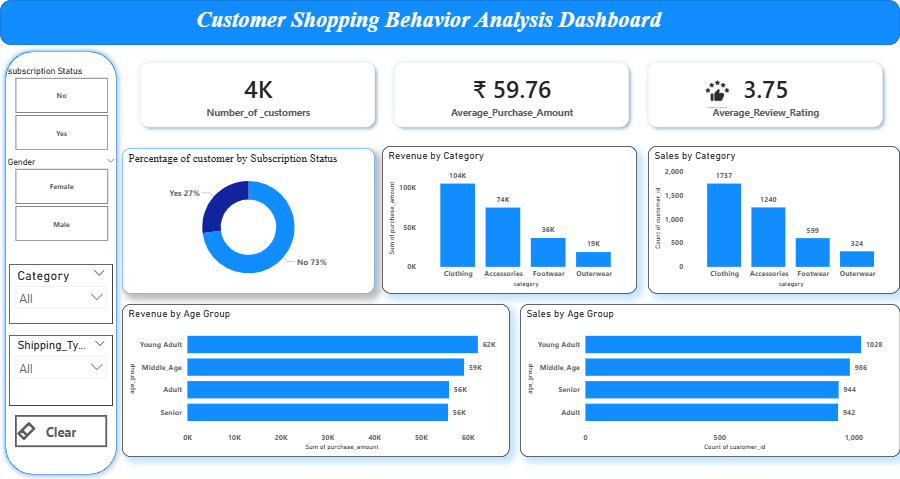

What the dashboard file says about the page in this screenshot:
{"tool":"powerbi","page":{"name":"Page 1","canvas":[1500,800],"ordinal":0},"visuals":[{"type":"cardVisual","fields":{"Data":["customer_shopping customer.Number_of _customers","customer_shopping customer.Average_Purchase_Amount","customer_shopping customer.Average_Review_Ratingg"]},"box":[204.4,75.6,1295.6,166.7],"z":0},{"type":"shape","box":[0,0,1500,75],"z":1000},{"type":"textbox","box":[306.7,6.7,815,70],"z":2000},{"type":"donutChart","title":"Percentage of customer by Subscription Status","fields":{"Category":["customer_shopping customer.subscription_status"],"Y":["CountNonNull(customer_shopping customer.customer_id)"]},"box":[203.6,246.4,421.4,242.9],"z":3000},{"type":"clusteredColumnChart","title":"Revenue by Category","fields":{"Y":["Sum(customer_shopping customer.purchase_amount)"],"Category":["customer_shopping customer.category"]},"box":[637.5,242.9,425,246.4],"z":4000},{"type":"clusteredColumnChart","title":"Sales by Category","fields":{"Category":["customer_shopping customer.category"],"Y":["CountNonNull(customer_shopping customer.customer_id)"]},"box":[1080.4,242.9,419.6,246.4],"z":5000},{"type":"shape","box":[0,76.8,203.6,723.2],"z":6000},{"type":"slicer","fields":{"Values":["customer_shopping customer.subscription_status"]},"box":[0,105.4,203.6,151.8],"z":7000},{"type":"slicer","fields":{"Values":["customer_shopping customer.gender"]},"box":[0,257.1,203.6,151.8],"z":8000},{"type":"slicer","fields":{"Values":["customer_shopping customer.category"]},"box":[14.3,439.3,173.2,100],"z":9000},{"type":"slicer","fields":{"Values":["customer_shopping customer.shipping_type"]},"box":[14.3,558.9,173.2,117.9],"z":10000},{"type":"actionButton","box":[25,691.1,153.6,53.6],"z":11000},{"type":"clusteredBarChart","title":"Revenue by Age Group","fields":{"Y":["Sum(customer_shopping customer.purchase_amount)"],"Category":["customer_shopping customer.age_group"]},"box":[203.6,507.1,646.4,255.4],"z":12000},{"type":"clusteredBarChart","title":"Sales by Age Group","fields":{"Y":["CountNonNull(customer_shopping customer.customer_id)"],"Category":["customer_shopping customer.age_group"]},"box":[866.1,507.1,633.9,255.4],"z":13000},{"type":"image","box":[1156.9,123.1,78.5,58.5],"z":14000}]}

Visuals, with their boxes in screenshot pixels (x1, y1, x2, y2), scaled from the page's 1500x800 canvas onto the 900x479 screenshot:
cardVisual - customer_shopping customer.Number_of _customers x customer_shopping customer.Average_Purchase_Amount: [x1=123, y1=45, x2=899, y2=145]
shape: [x1=0, y1=0, x2=899, y2=45]
textbox: [x1=184, y1=4, x2=673, y2=46]
"Percentage of customer by Subscription Status" donutChart: [x1=122, y1=148, x2=375, y2=293]
"Revenue by Category" clusteredColumnChart: [x1=382, y1=145, x2=638, y2=293]
"Sales by Category" clusteredColumnChart: [x1=648, y1=145, x2=899, y2=293]
shape: [x1=0, y1=46, x2=122, y2=478]
slicer - customer_shopping customer.subscription_status: [x1=0, y1=63, x2=122, y2=154]
slicer - customer_shopping customer.gender: [x1=0, y1=154, x2=122, y2=245]
slicer - customer_shopping customer.category: [x1=9, y1=263, x2=112, y2=323]
slicer - customer_shopping customer.shipping_type: [x1=9, y1=335, x2=112, y2=405]
actionButton: [x1=15, y1=414, x2=107, y2=446]
"Revenue by Age Group" clusteredBarChart: [x1=122, y1=304, x2=510, y2=457]
"Sales by Age Group" clusteredBarChart: [x1=520, y1=304, x2=899, y2=457]
image: [x1=694, y1=74, x2=741, y2=109]
